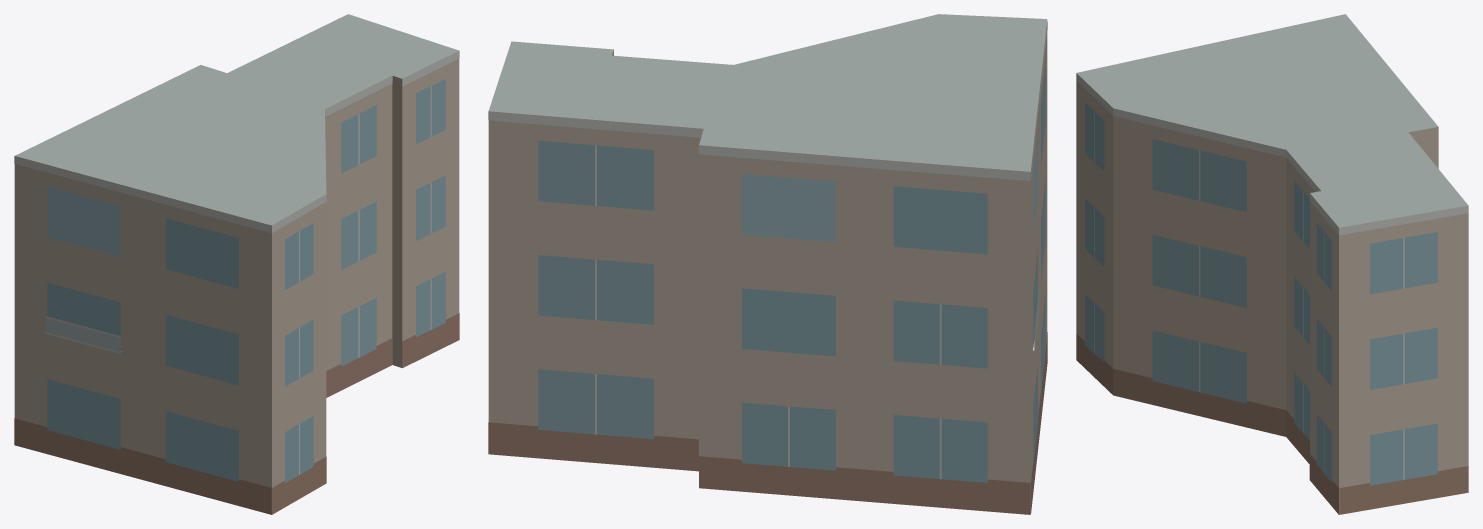
Rendered from survey-upis-32534825.glb.
3 renders of one model, left to right at view 1: azimuth 30°, elevation 25°; view 2: azimuth 150°, elevation 25°; view 3: azimuth 270°, elevation 25°, orthographic. The views are drawn at different scales.
Parts seen in each view (by area): view 1: survey-upis-32534825.tmp; view 2: survey-upis-32534825.tmp; view 3: survey-upis-32534825.tmp.
Boxes of the visible parts, x1,y1,x2,y2 form: survey-upis-32534825.tmp: (14, 14, 459, 514); survey-upis-32534825.tmp: (488, 14, 1047, 514); survey-upis-32534825.tmp: (1076, 14, 1468, 514).
Size of the model in its own units: 14.54 by 9.1 by 11.28.
